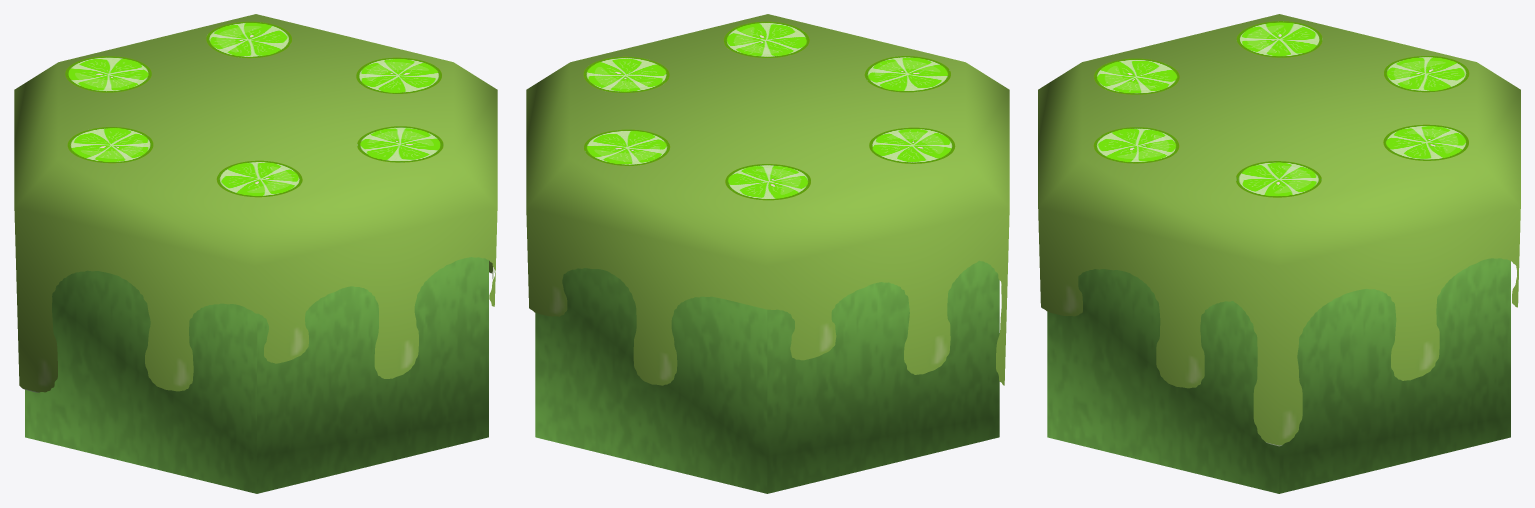
The model's file is Cake_A_08.FBX.
3 renders of one model, left to right at view 1: azimuth 30°, elevation 25°; view 2: azimuth 150°, elevation 25°; view 3: azimuth 270°, elevation 25°, orthographic.
Parts seen in each view (by area): view 1: Cake; view 2: Cake; view 3: Cake.
Part boxes in pixels (box(x1,y1,x2,y2)): Cake: box(14, 14, 497, 493); Cake: box(526, 14, 1009, 493); Cake: box(1038, 14, 1520, 493).
Size of the model in its own units: 106 by 56.96 by 92.14.
